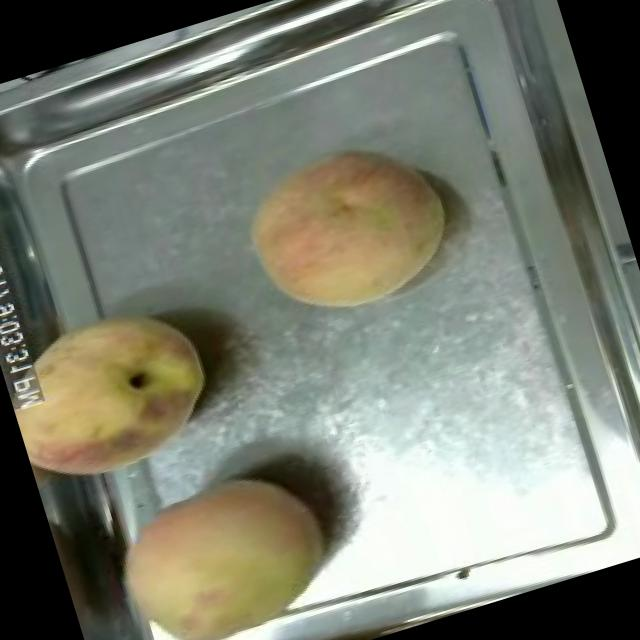Fruit: (85, 441, 368, 640), (225, 119, 468, 342), (0, 282, 234, 505)
